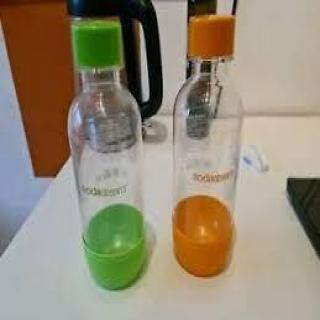Plastic-bottle: (63, 17, 157, 293), (168, 9, 253, 283)
